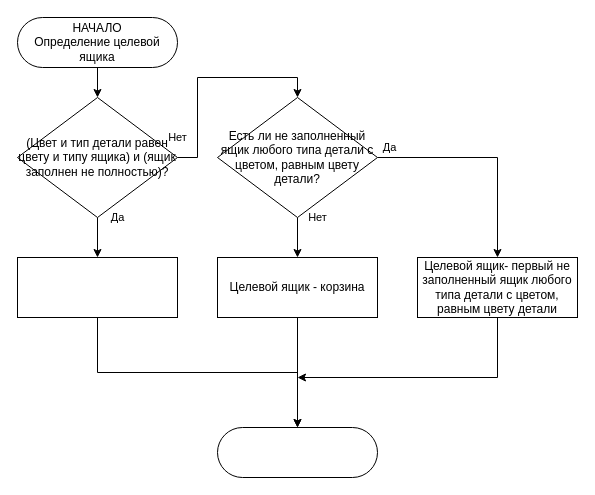
Image size: 595x495. Some labels were removed from this diagram. The box of each missing label's shape, as (x1, y1, x2, y2) in pixels:
КОНЕЦ Определение целевого ящика: (216, 426, 378, 478)
Целевой ящик - ящик совпадающий по цвету и типу детали: (16, 256, 178, 318)
